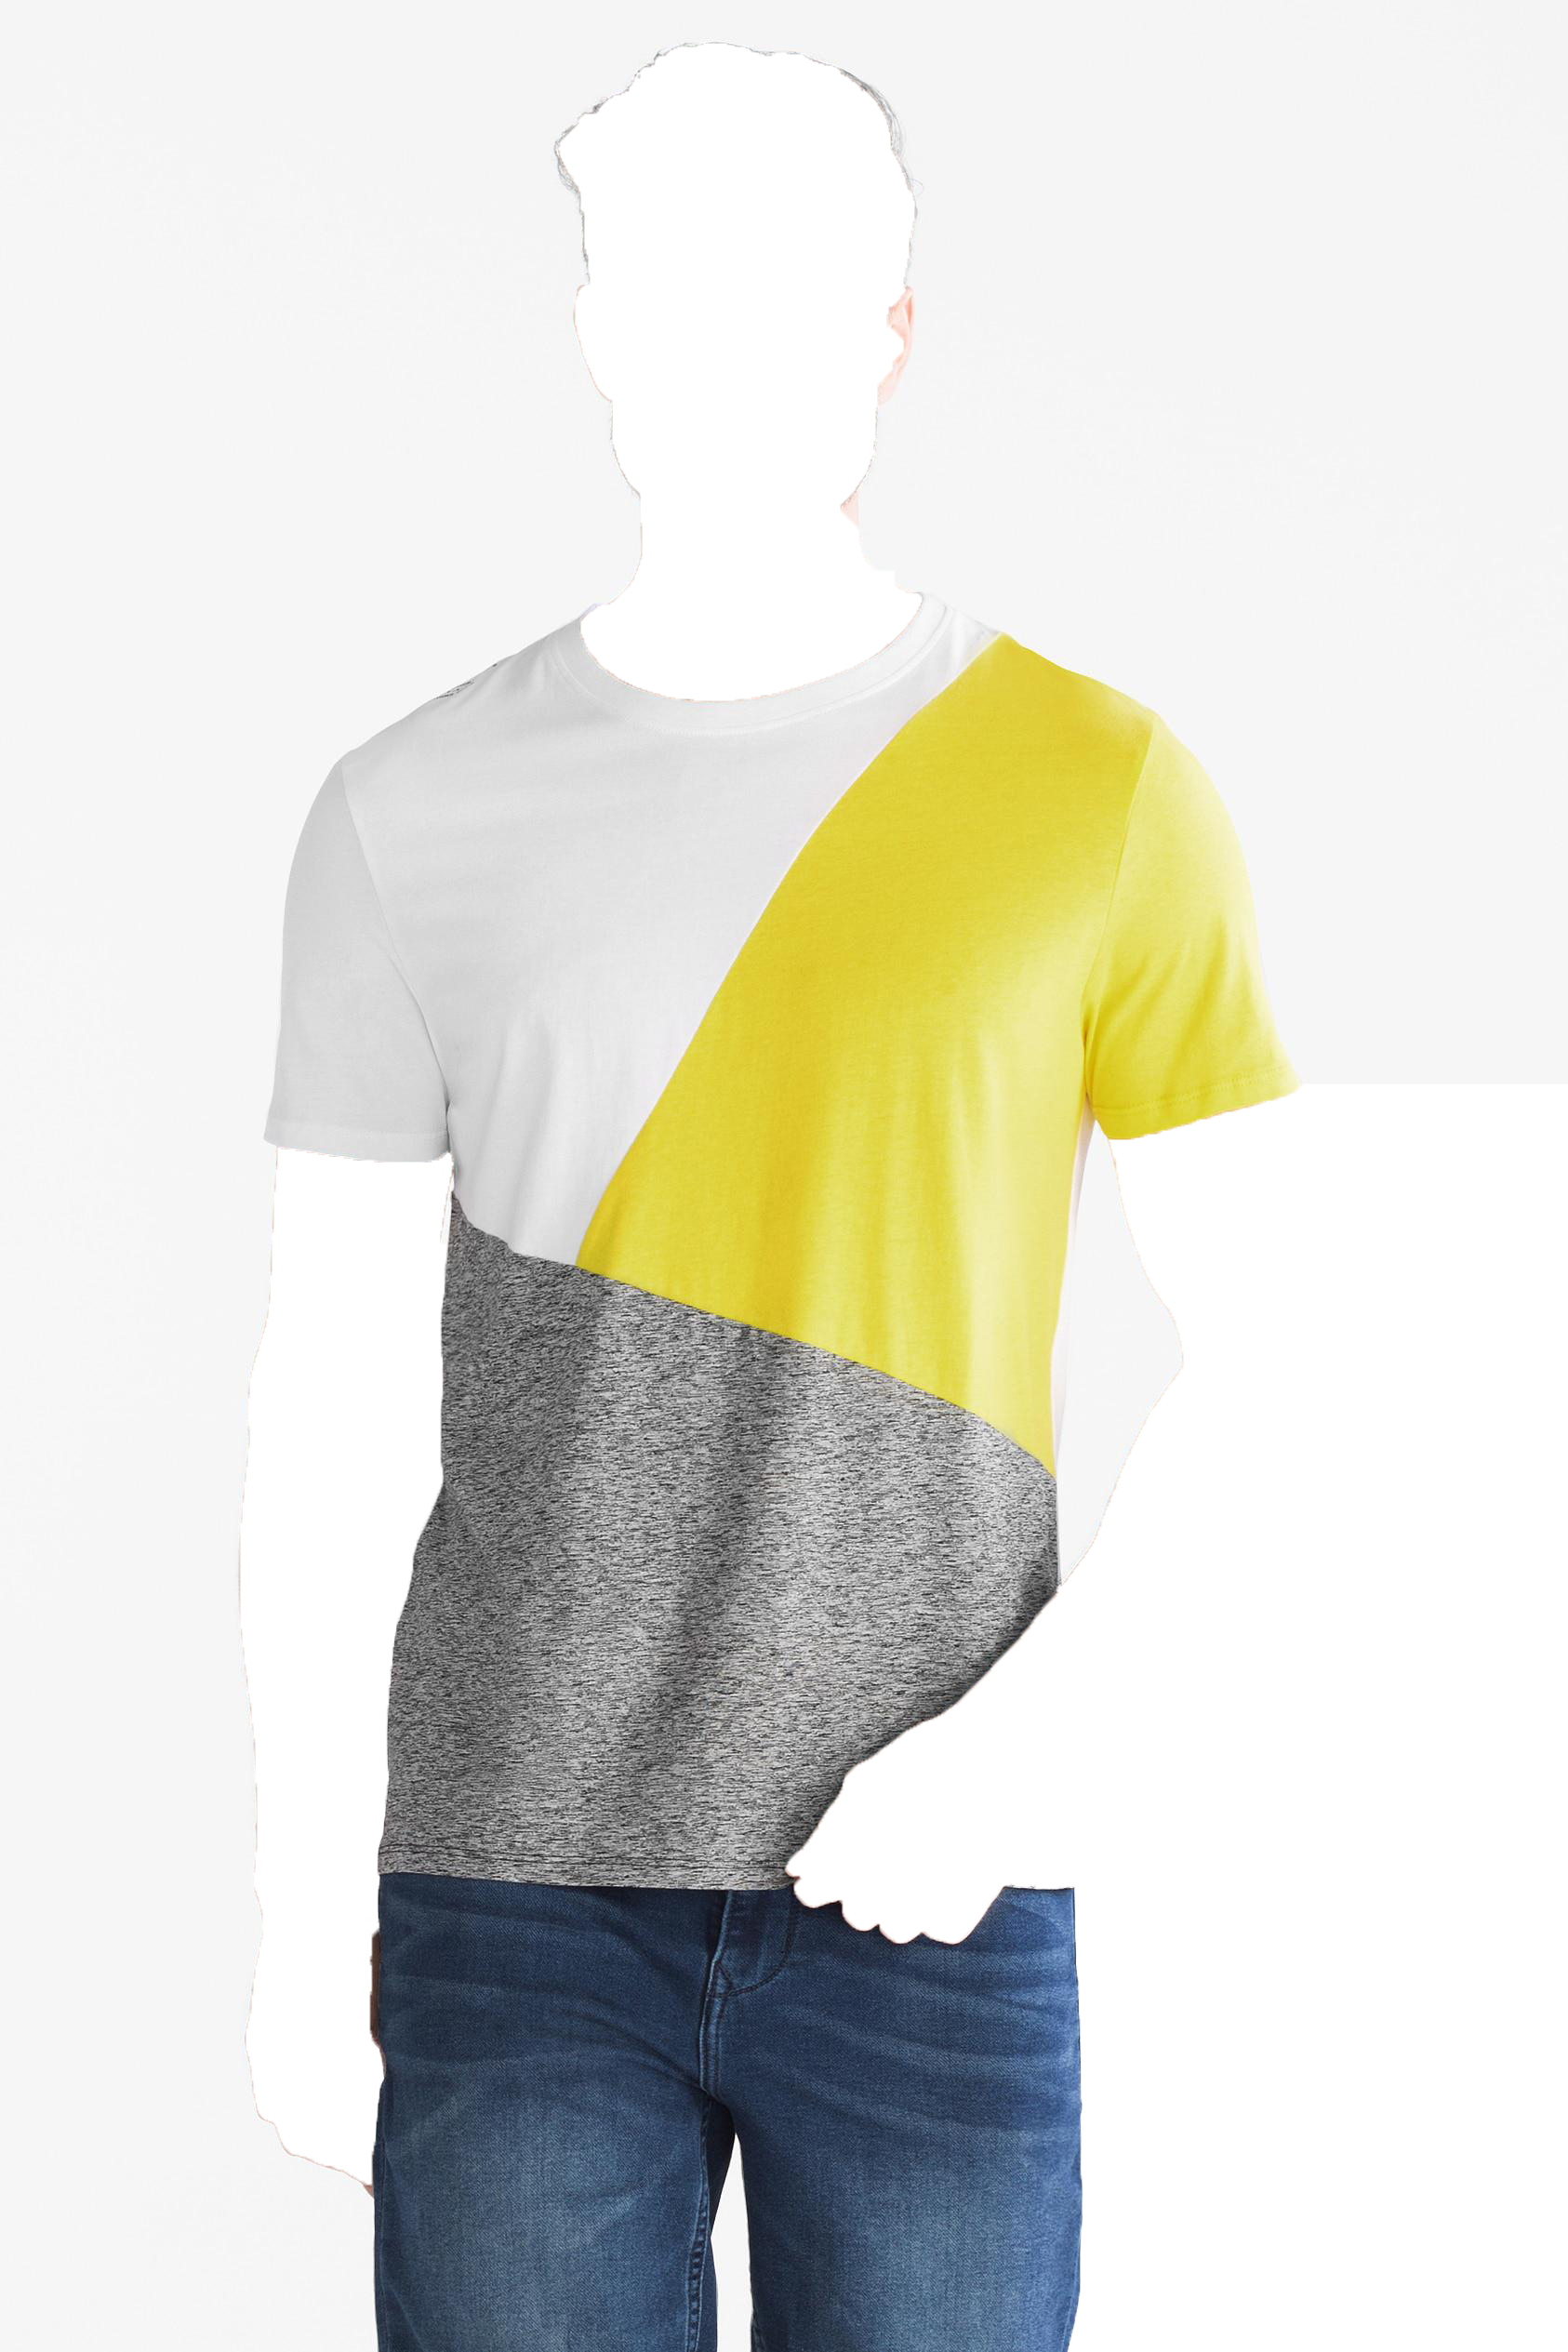teeshirt: (227, 579, 1311, 1957)
